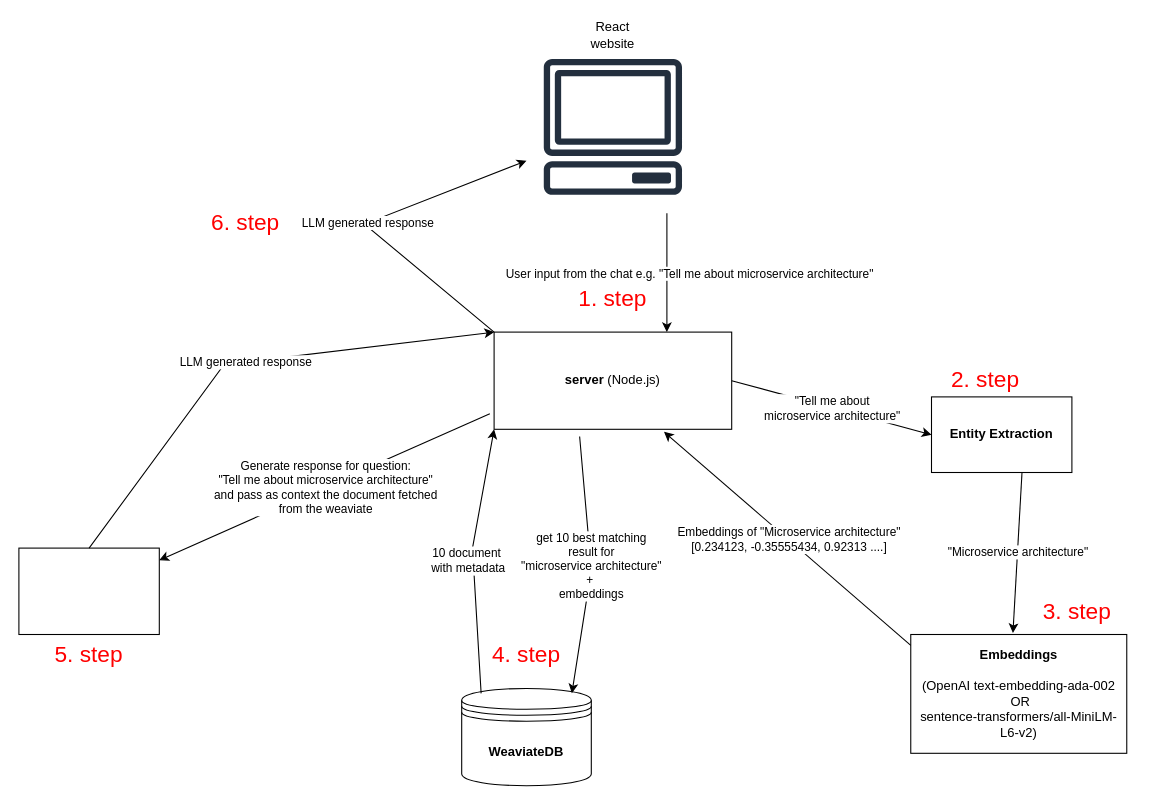
The diagram is 1150 pixels wide and 805 high, and some of its shapes have lost their labels. Here are the shapes that lost their labels. From the top down, the centre of each, then its label:
pixel 612 126: Chat UI
pixel 88 590: OpenAI LLM
